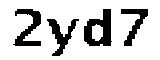2: (12, 7, 47, 50)
7: (119, 5, 153, 49)
d: (82, 4, 119, 52)
y: (46, 14, 83, 59)
